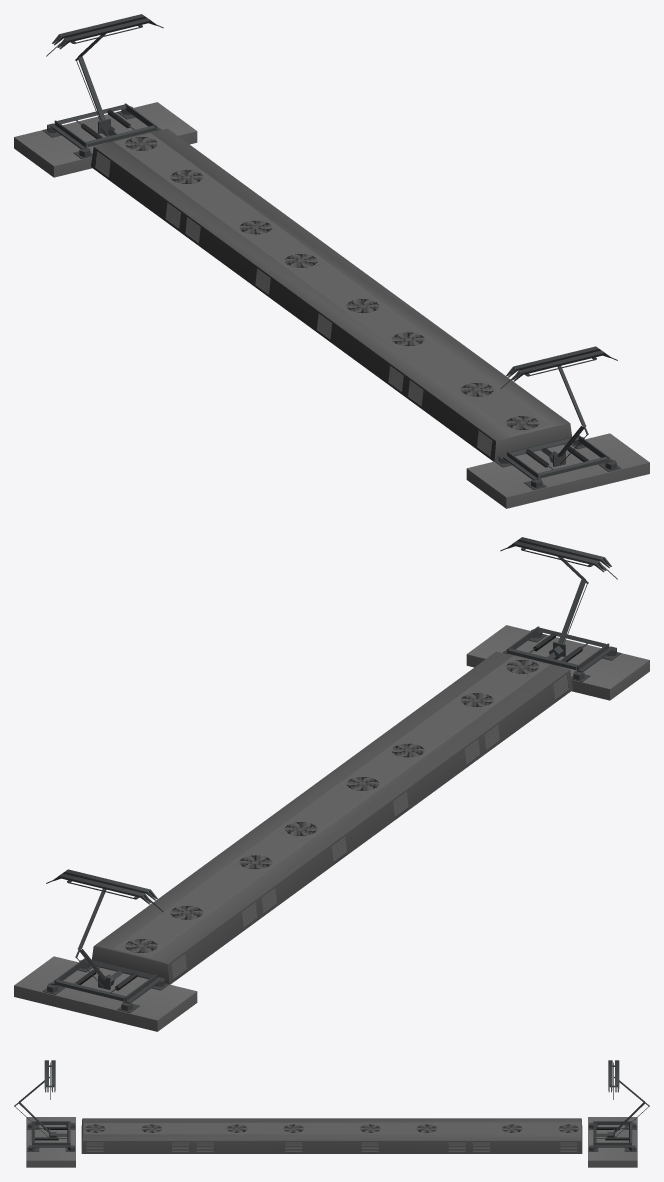
The model's file is HANKYU8200_PANTA00.glb.
The picture shows the model from 3 angles, top to bottom: view 1: azimuth 30°, elevation 25°; view 2: azimuth 150°, elevation 25°; view 3: azimuth 270°, elevation 25°; orthographic projection. The views are drawn at different scales.
Parts seen in each view (by area): view 1: PANTA; view 2: PANTA; view 3: PANTA.
Part boxes in pixels (box(x1,y1,x2,y2)): PANTA: box(14, 14, 649, 508); PANTA: box(14, 537, 649, 1031); PANTA: box(14, 1060, 649, 1167).
Size of the model in its own units: 5.47 by 4.28 by 33.82.
3 materials, 3 textured.
